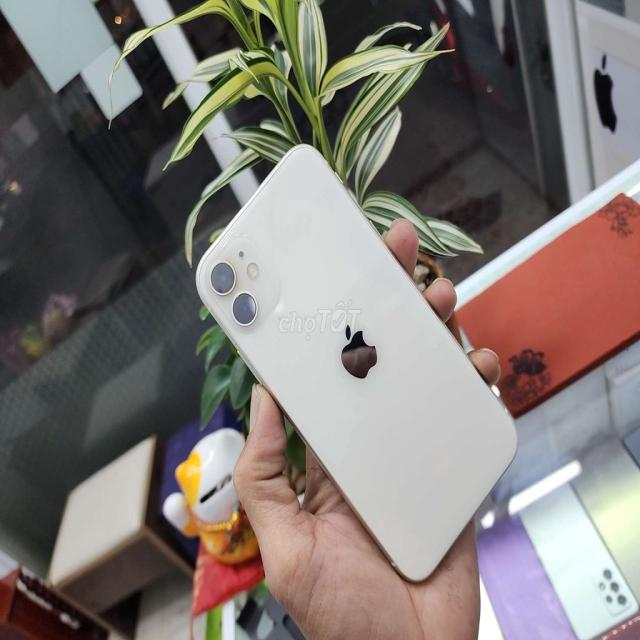gen_11: (187, 138, 523, 592)
